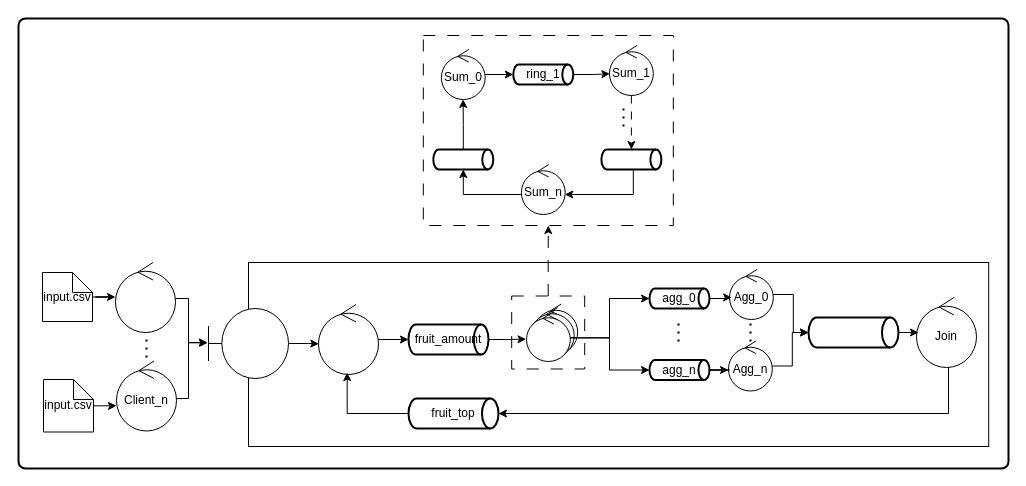
The diagram is 1026 pixels wide and 486 high, and some of its shapes have lost their labels. The shapes that lost their labels are listed below. From the top down, each one's box as (x1, y1, x2, y2) in pixels, then its label:
(432, 148, 494, 170): ring_0
(600, 148, 662, 170): ring_n
(114, 262, 176, 332): Client_1
(208, 308, 288, 378): Socket TCP/IP
(318, 304, 378, 374): Gateway
(526, 310, 570, 362): Sum_i
(807, 316, 899, 348): partial_fruit_top
